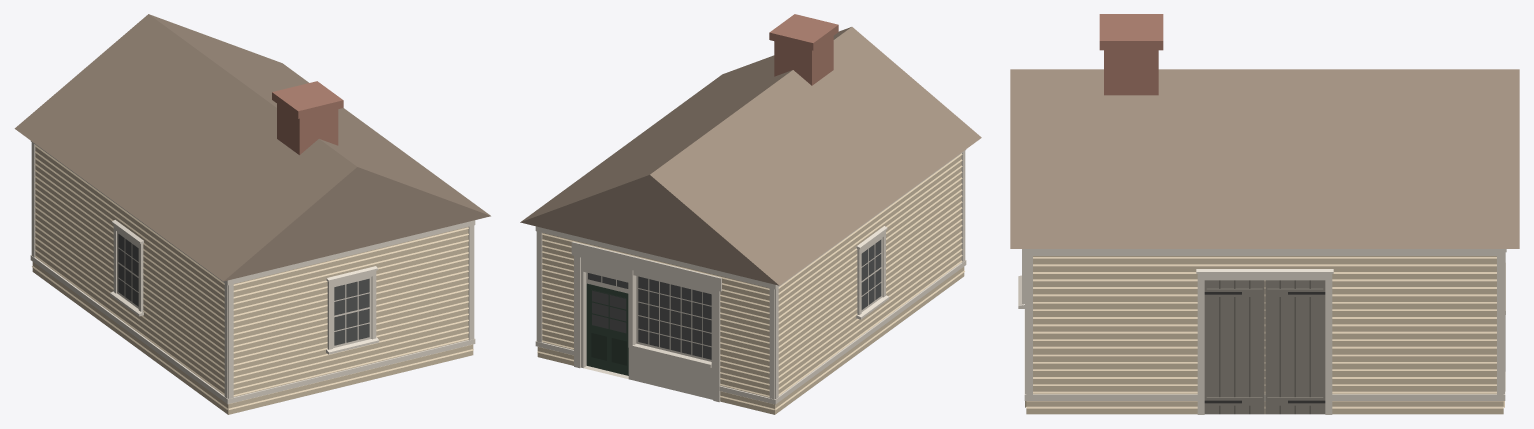
File: recon_1835_core_c1_043__inferred_1835.glb
3 renders of one model, left to right at view 1: azimuth 30°, elevation 25°; view 2: azimuth 150°, elevation 25°; view 3: azimuth 270°, elevation 25°, orthographic. The views are drawn at different scales.
Parts seen in each view (by area): view 1: recon_1835_core_c1_043__inferred_1835; view 2: recon_1835_core_c1_043__inferred_1835; view 3: recon_1835_core_c1_043__inferred_1835.
Boxes of the visible parts, bbox=[...] form: recon_1835_core_c1_043__inferred_1835: bbox=[14, 14, 490, 414]; recon_1835_core_c1_043__inferred_1835: bbox=[520, 14, 981, 414]; recon_1835_core_c1_043__inferred_1835: bbox=[1010, 14, 1519, 414].
Bounding box in the file's own units: 5.8 × 5.32 × 7.83.
